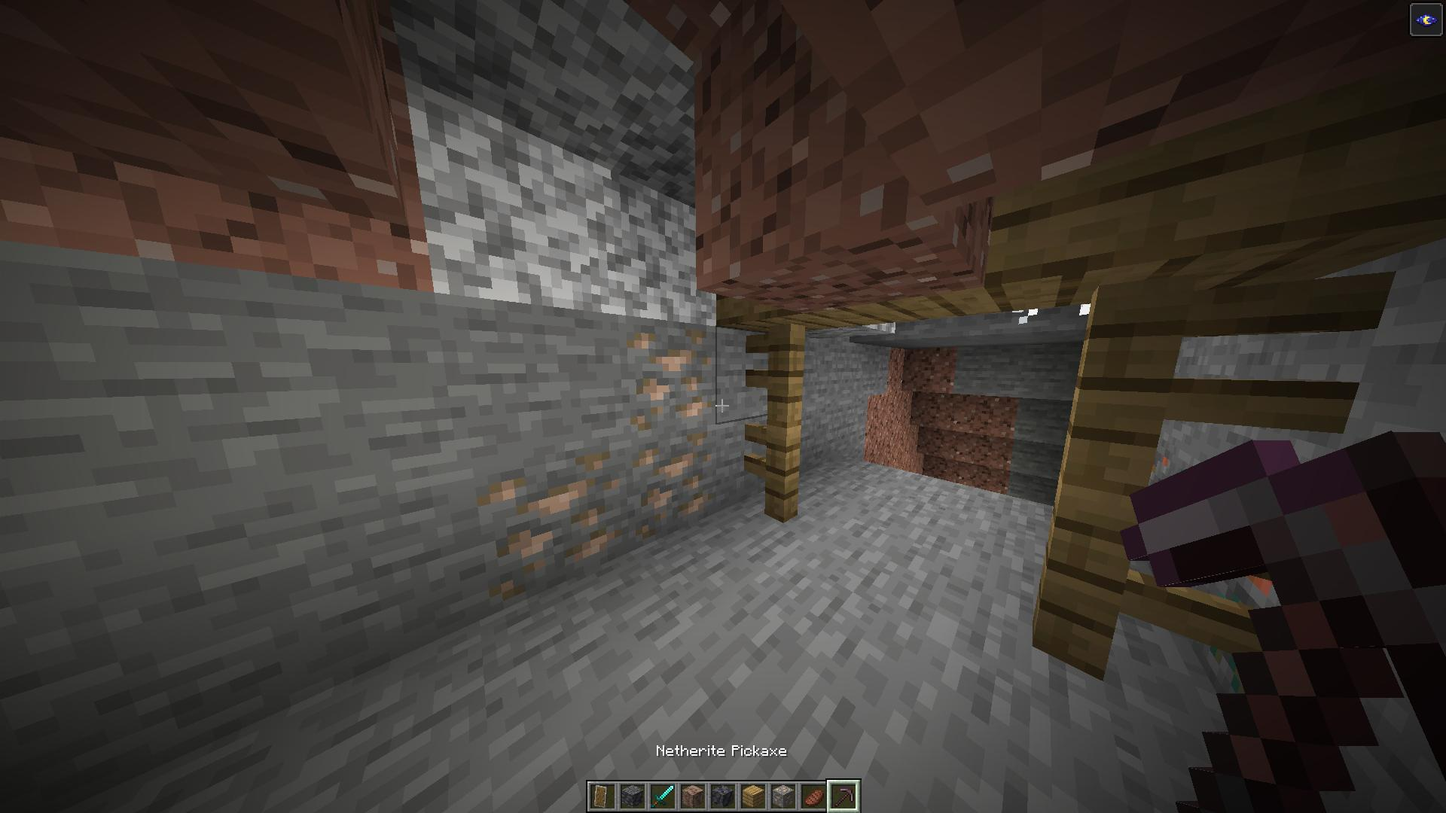iron ore: (493, 451, 622, 586), (625, 316, 720, 427), (629, 434, 717, 534)
